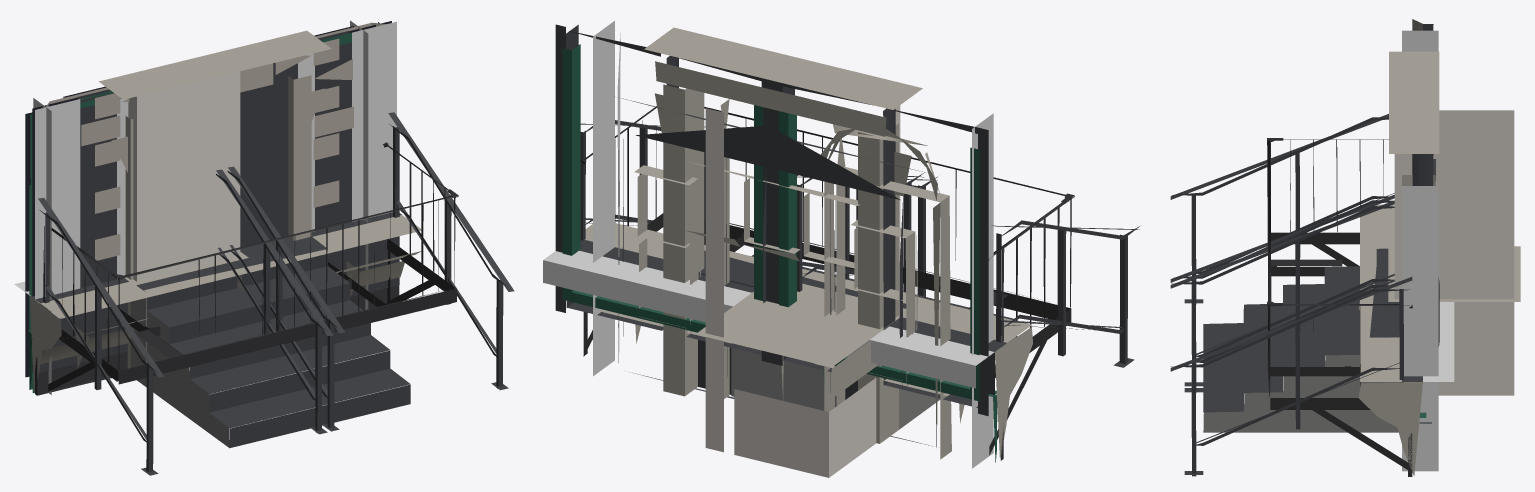
File: bays.glb
3 views of the same model, side by side, from view 1: azimuth 30°, elevation 25°; view 2: azimuth 150°, elevation 25°; view 3: azimuth 270°, elevation 25° (orthographic). The views are drawn at different scales.
Visible parts, largest first — view 1: stoop, post, winD, shopW, doorB, fireEscape, corniceT, winB, corniceM, shopA, blank, shopB (+2 smaller); view 2: doorB, postCap, shopA, shopB, stoop, corniceB, doorA, fireEscape, post, winC, corniceT, winE (+5 smaller); view 3: stoop, post, doorB, corniceT, fireEscape, corniceB, postCap, shopA.
Boxes of the visible parts, x1,y1,x2,y2 form: stoop: [38, 112, 514, 475]; post: [128, 71, 240, 362]; winD: [35, 21, 396, 318]; shopW: [35, 42, 351, 395]; doorB: [33, 20, 368, 394]; fireEscape: [48, 142, 458, 391]; corniceT: [29, 215, 421, 392]; winB: [81, 38, 353, 260]; corniceM: [30, 212, 401, 392]; shopA: [32, 21, 399, 395]; blank: [117, 53, 314, 278]; shopB: [25, 32, 351, 392]; doorB: [593, 21, 993, 468]; postCap: [696, 283, 906, 477]; shopA: [555, 24, 988, 416]; shopB: [562, 44, 995, 401]; stoop: [580, 120, 1139, 429]; corniceB: [543, 250, 994, 388]; doorA: [572, 44, 997, 462]; fireEscape: [580, 106, 1074, 455]; post: [705, 105, 900, 452]; winC: [636, 125, 902, 388]; corniceT: [585, 223, 1032, 460]; winE: [634, 165, 917, 385]; stoop: [1170, 114, 1412, 476]; post: [1394, 110, 1514, 395]; doorB: [1389, 30, 1439, 471]; corniceT: [1358, 204, 1422, 476]; fireEscape: [1267, 138, 1412, 469]; corniceB: [1423, 302, 1454, 381]; postCap: [1388, 246, 1520, 301]; shopA: [1412, 24, 1433, 423].
Bounding box in the file's own units: 4 × 3.01 × 3.34.
